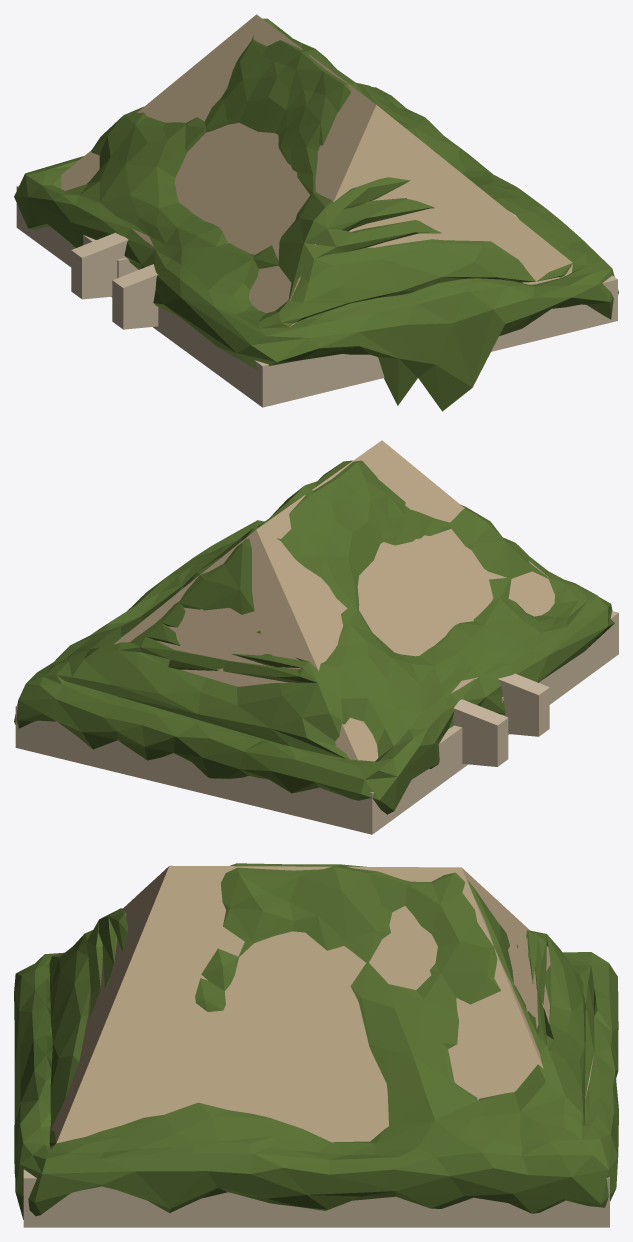
File: LightSandStonebuildingLargeOverGrownAztecPrism1.fbx
3 views of the same model, one above another, from view 1: azimuth 30°, elevation 25°; view 2: azimuth 150°, elevation 25°; view 3: azimuth 270°, elevation 25° (orthographic). The views are drawn at different scales.
Visible parts, largest first — view 1: OverGrowth, TempleRoof; view 2: OverGrowth, TempleRoof; view 3: OverGrowth, TempleRoof.
Boxes of the visible parts, x1,y1,x2,y2 form: OverGrowth: (14,18,618,411); TempleRoof: (16,14,617,407); OverGrowth: (14,460,614,814); TempleRoof: (15,440,618,834); OverGrowth: (14,863,618,1219); TempleRoof: (23,865,609,1227).
Size of the model in its own units: 2013 by 1285 by 2219.
